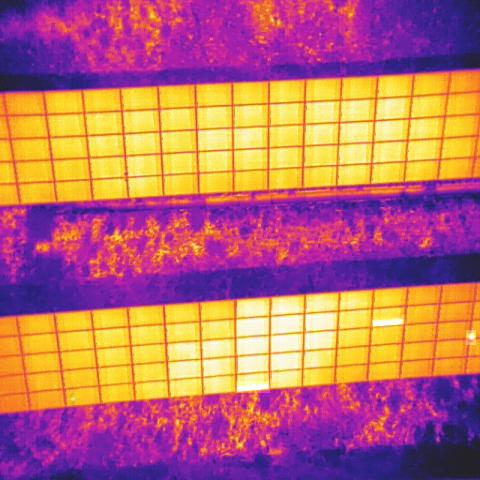fault: (236, 381, 270, 393), (370, 317, 406, 328), (466, 330, 476, 345), (69, 393, 76, 406)
